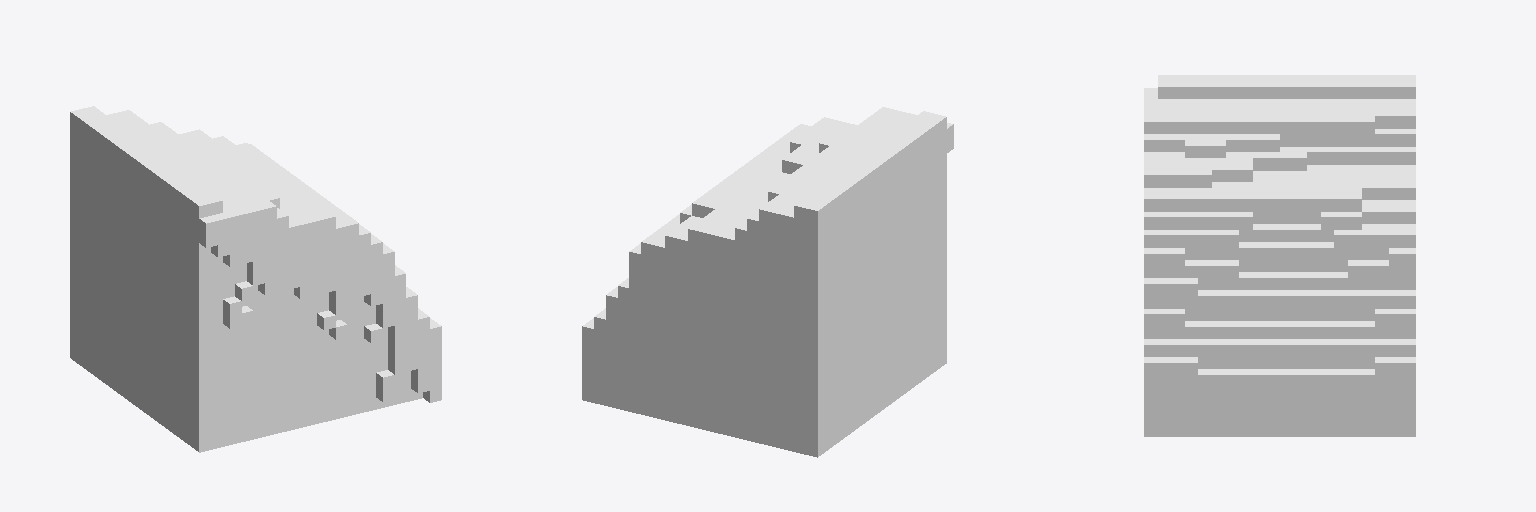
Rendered from GrassBlockSlantRight.obj.
3 views of the same model, side by side, from view 1: azimuth 30°, elevation 25°; view 2: azimuth 150°, elevation 25°; view 3: azimuth 270°, elevation 25° (orthographic).
Size of the model in its own units: 20 by 20 by 20.